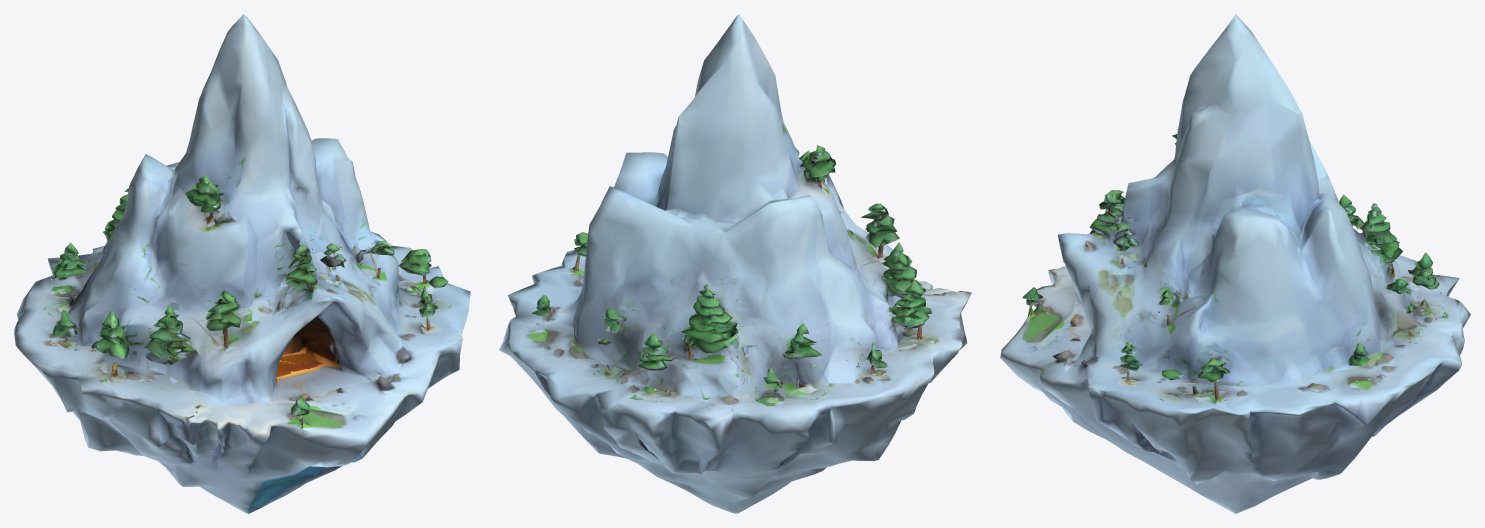
The model's file is Mineria.glb.
3 views of the same model, side by side, from view 1: azimuth 30°, elevation 25°; view 2: azimuth 150°, elevation 25°; view 3: azimuth 270°, elevation 25° (orthographic).
Size of the model in its own units: 1.67 by 1.99 by 1.71.
Materials: 1 (1 with a texture image).
